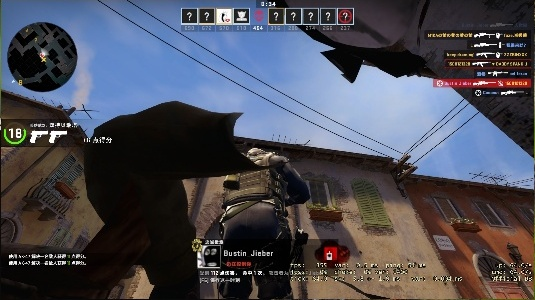body: (220, 144, 304, 298)
